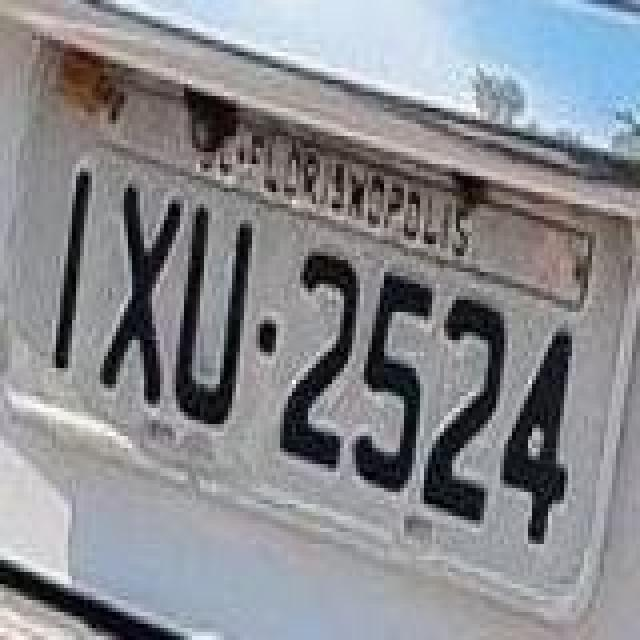1: (50, 170, 94, 374)
2: (422, 294, 506, 522), (278, 248, 362, 472)
4: (500, 328, 572, 544)
5: (350, 270, 434, 498)
U: (174, 206, 258, 434)
X: (104, 182, 184, 410)
